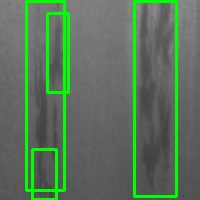inclusion: (134, 1, 176, 196), (26, 1, 64, 190), (47, 13, 68, 92), (32, 149, 56, 199)
